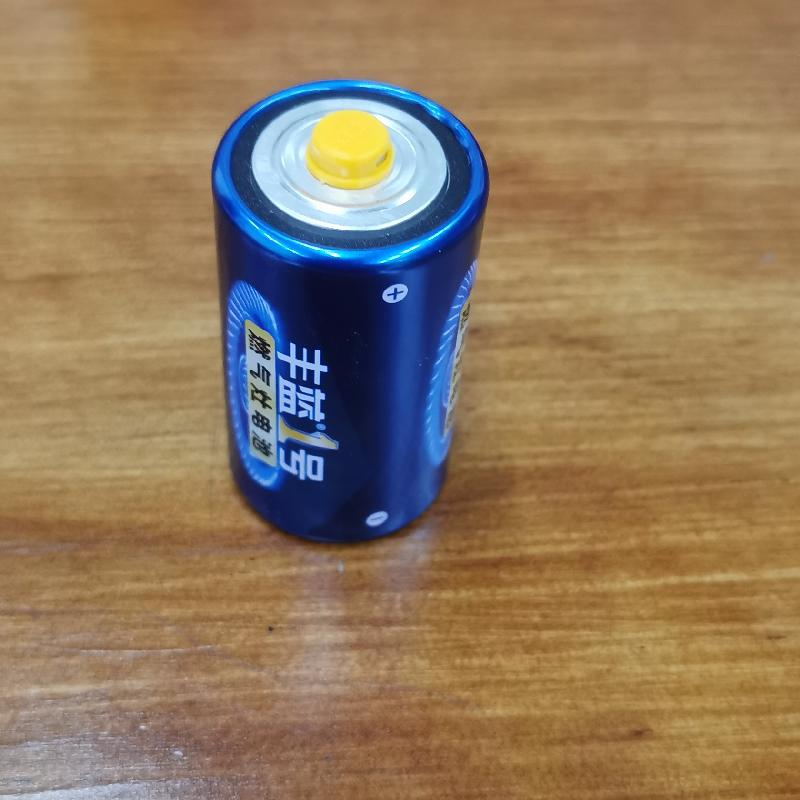battery: (203, 79, 490, 548)
